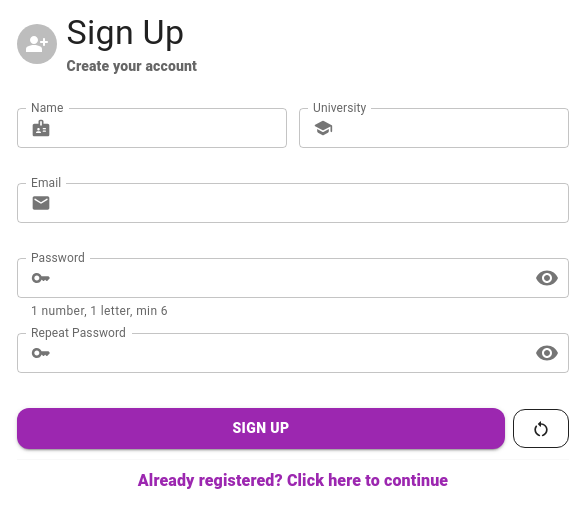
SignUpForm › surfaces backend errors and validation details
Type "Mario" into the field labelled "Name" at {"x": 173, "y": 128}, box left=59, top=108, right=287, bottom=148
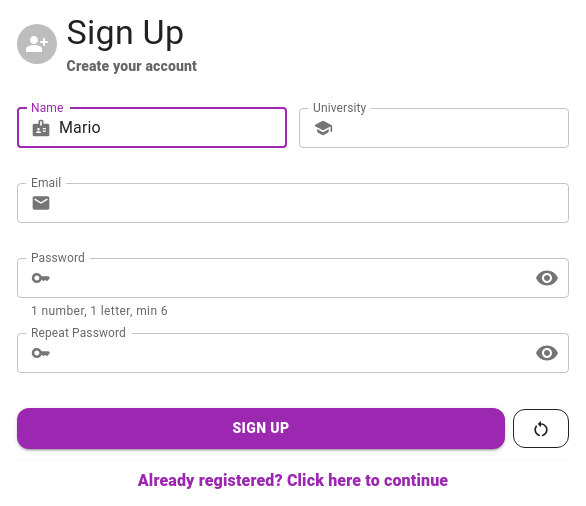
Type "Crete" into the field labelled "University" at {"x": 455, "y": 128}, box left=341, top=108, right=569, bottom=148
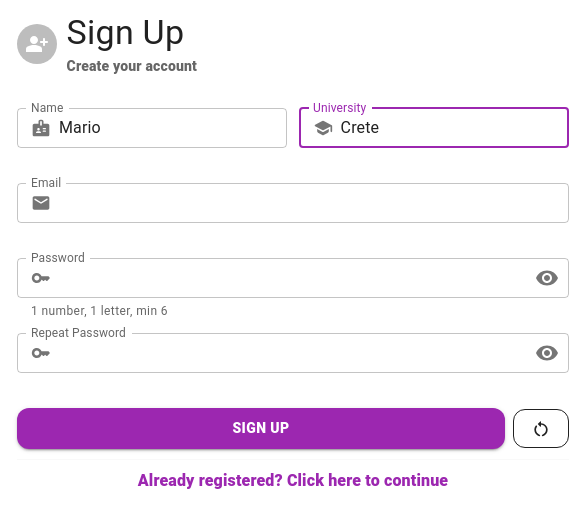
Type "user@example.com" into the field labelled "Email" at {"x": 314, "y": 203}, box left=59, top=183, right=569, bottom=223
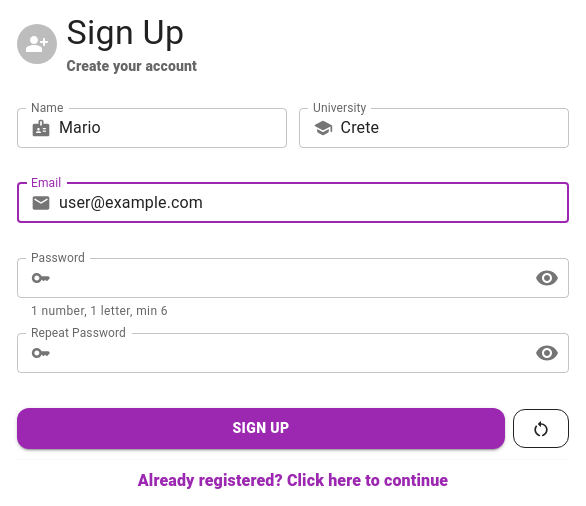
Type "abc123" into the password field labelled "Password" at {"x": 289, "y": 278}, box left=59, top=258, right=519, bottom=298
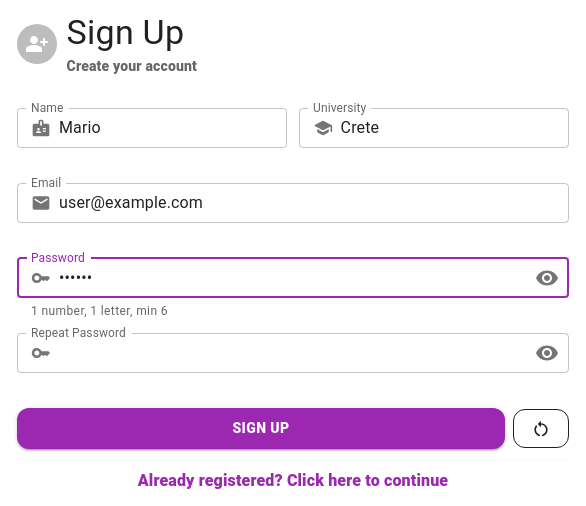
Type "abc123" into the password field labelled "Repeat Password" at {"x": 289, "y": 353}, box left=59, top=333, right=519, bottom=373
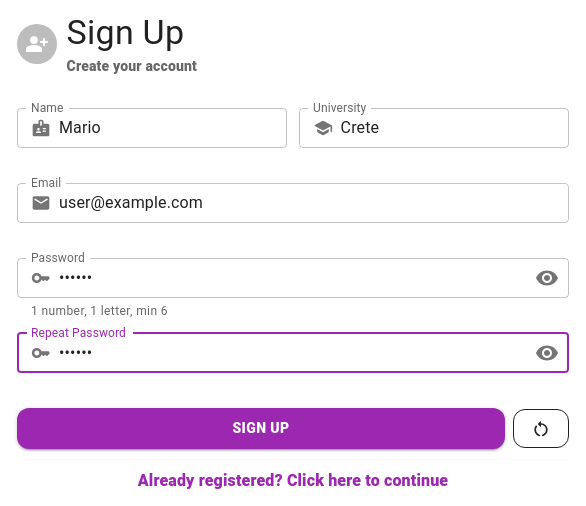
Click the button "Sign Up" at {"x": 261, "y": 429}, box left=17, top=408, right=505, bottom=449
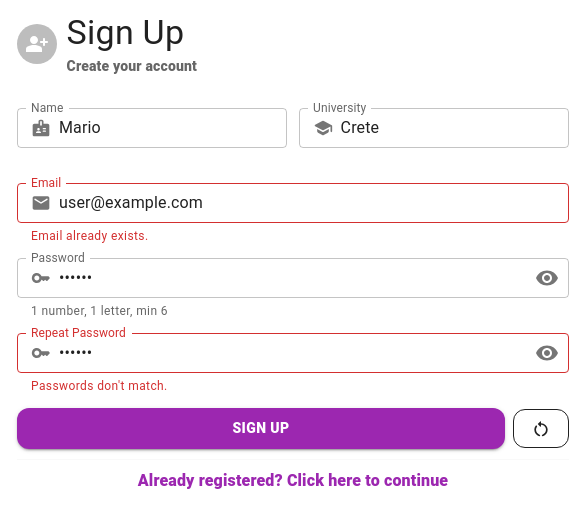
Result: the text "Email already exists." is shown at left=31, top=229, right=148, bottom=243
Result: the text "Passwords don't match." is shown at left=31, top=379, right=168, bottom=393
